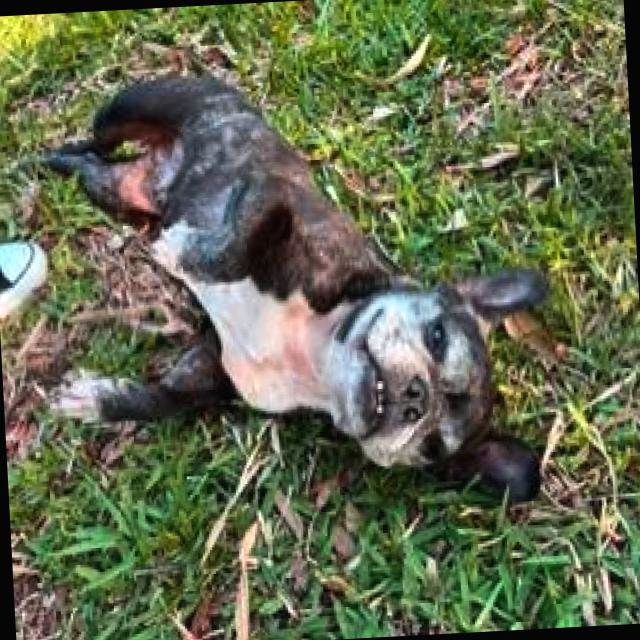french_bulldog_dog: (308, 248, 564, 526)
